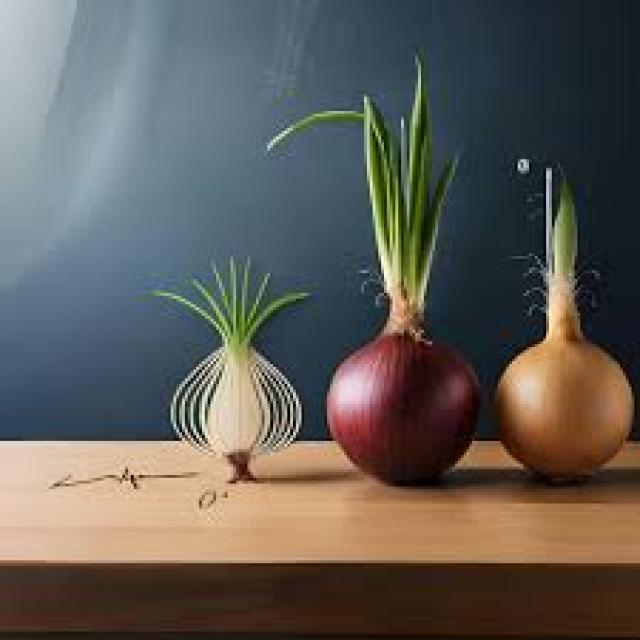Onion: (327, 292, 524, 502), (145, 252, 310, 482), (496, 242, 640, 498)
